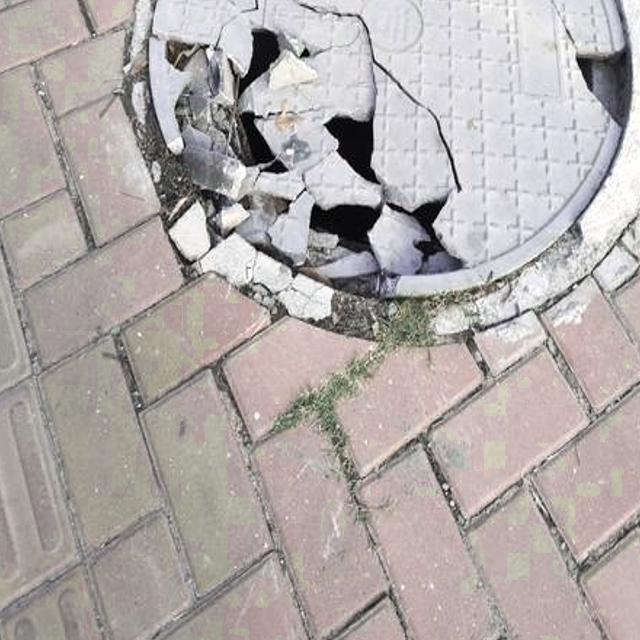broke: (85, 0, 640, 372)
